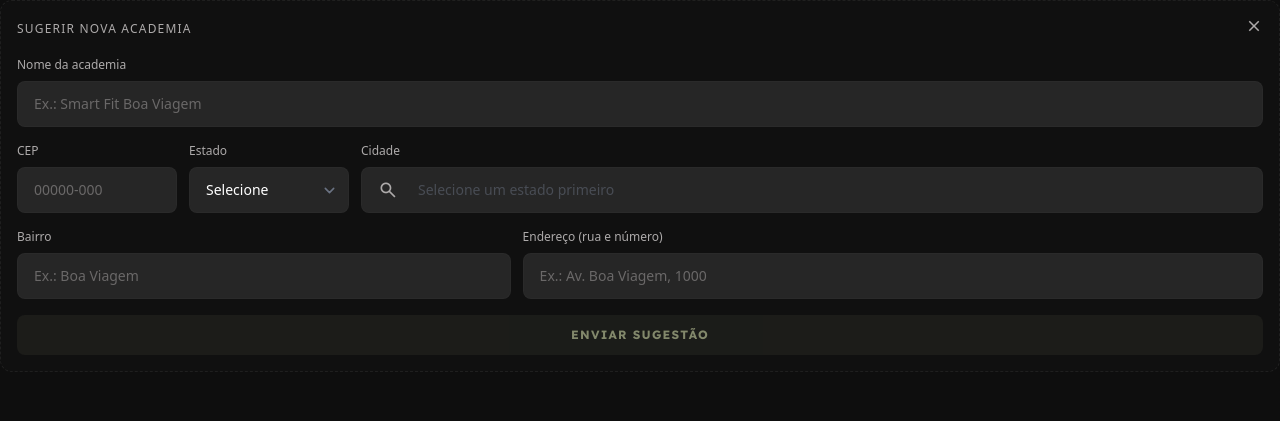
GymSuggestForm › propaga falha de envio da sugestão
The image size is (1280, 421).
Type "Academia Nova" into the field with placeholder "Ex.: Smart Fit Boa Viagem" at [640, 104], box [17, 81, 1263, 127]
Select "São Paulo (SP)" in the dropdown at [269, 190], box [190, 168, 348, 212]
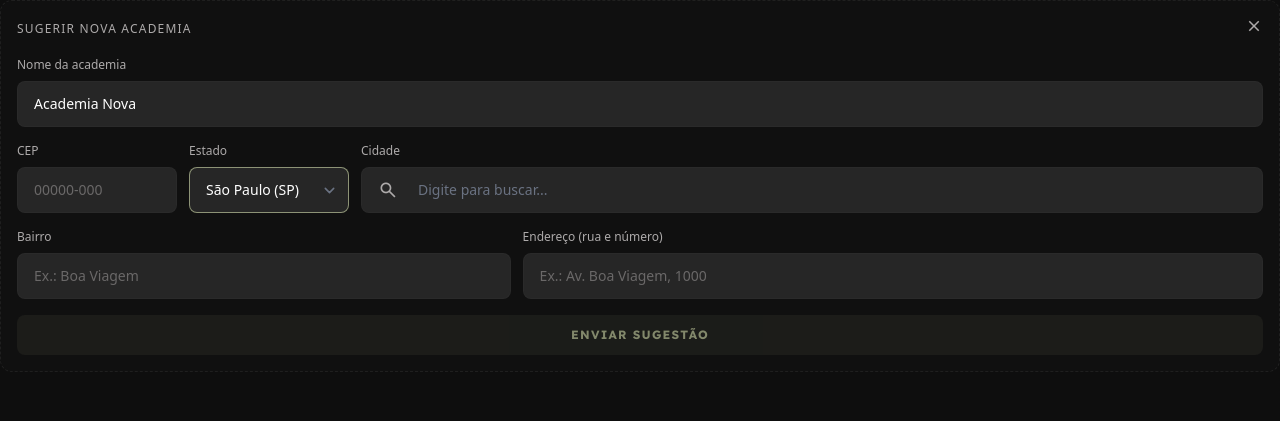
Type "São Paulo" into the field with placeholder "Digite para buscar..." at [826, 190], box [406, 168, 1246, 212]
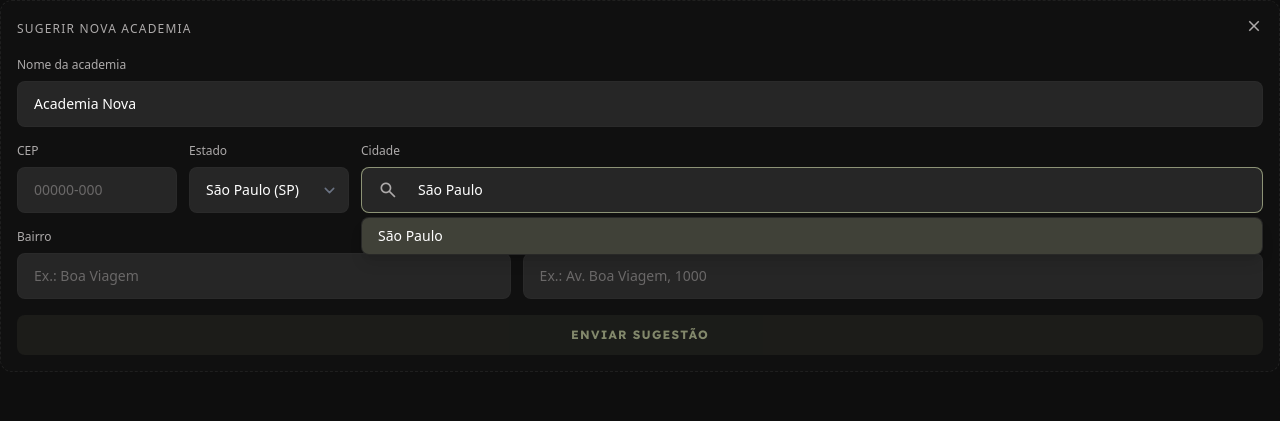
Click the button "São Paulo" at [410, 236], box [362, 218, 1262, 254]
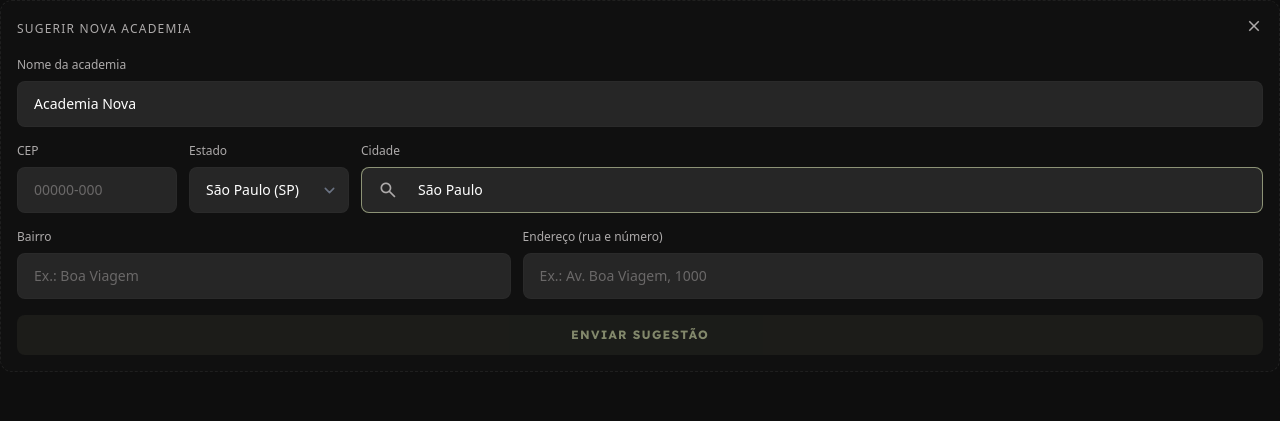
Type "Bela Vista" into the field labelled "Bairro" at [264, 276], box [17, 253, 511, 299]
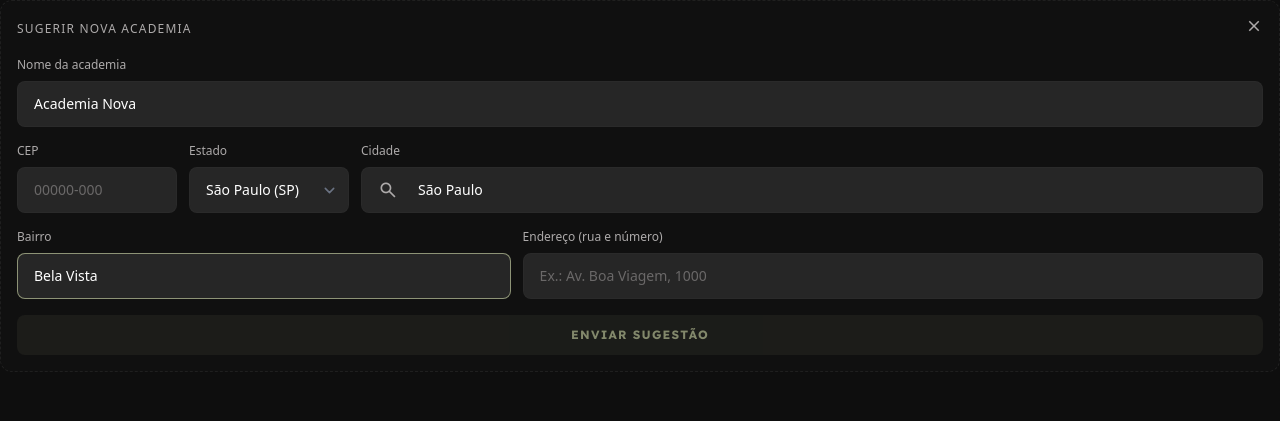
Type "Av. Paulista, 1000" into the field labelled "Endereço (rua e número)" at [893, 276], box [523, 253, 1263, 299]
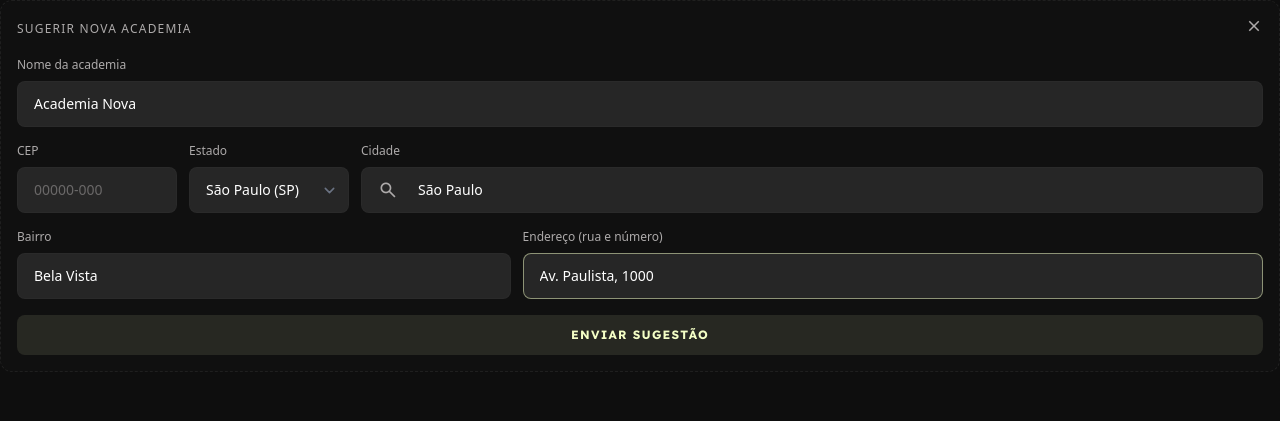
Click the button "ENVIAR SUGESTÃO" at [640, 335], box [17, 315, 1263, 355]
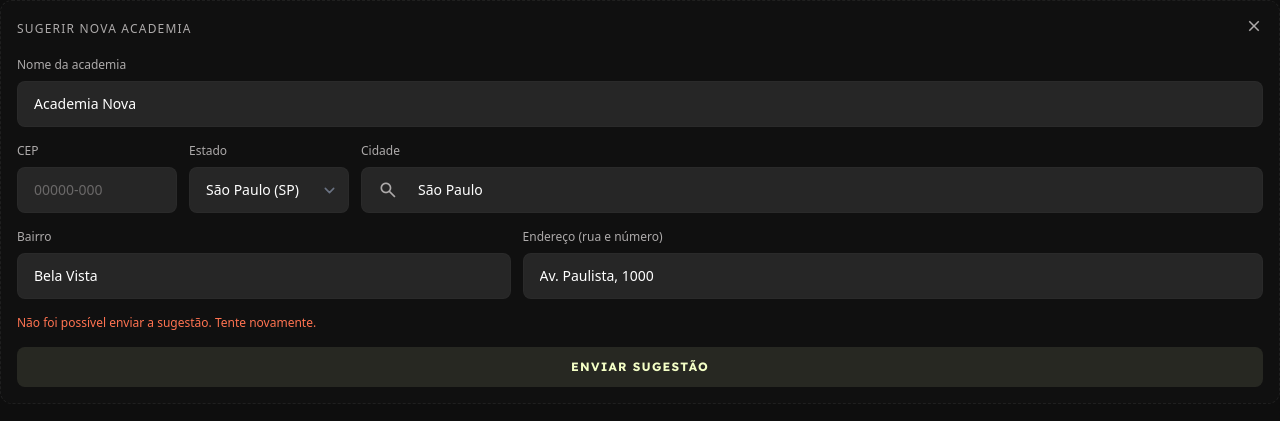
Expected: the text "Não foi possível enviar a sugestão. Tente novamente." is shown, [17, 314, 316, 331]
